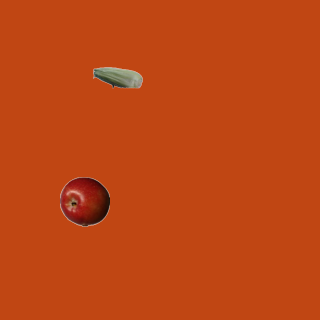Apple Braeburn: (59, 176, 109, 226)
Corn Husk: (92, 52, 142, 102)
